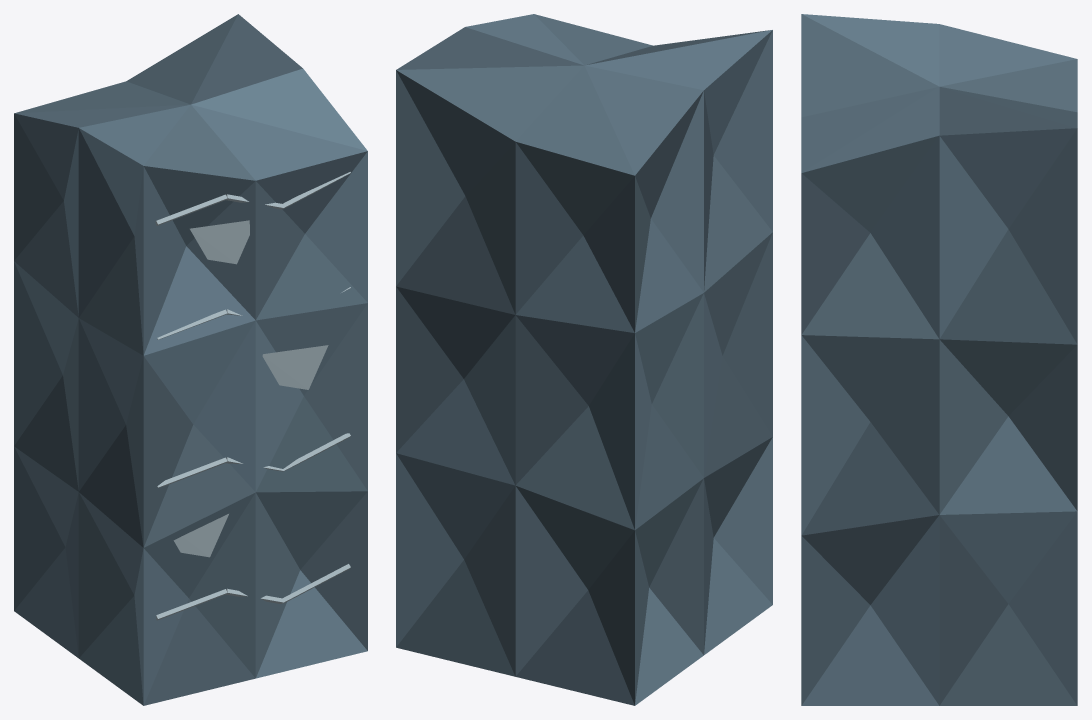
Rendered from frost_wall_c.glb.
3 views of the same model, side by side, from view 1: azimuth 30°, elevation 25°; view 2: azimuth 150°, elevation 25°; view 3: azimuth 270°, elevation 25° (orthographic). The views are drawn at different scales.
Parts seen in each view (by area): view 1: geometry; view 2: geometry; view 3: geometry.
Boxes of the visible parts, x1=… form: geometry: x1=14, y1=14, x2=367, y2=705; geometry: x1=396, y1=14, x2=772, y2=705; geometry: x1=801, y1=14, x2=1077, y2=705.
Size of the model in its own units: 1 by 2.31 by 1.
